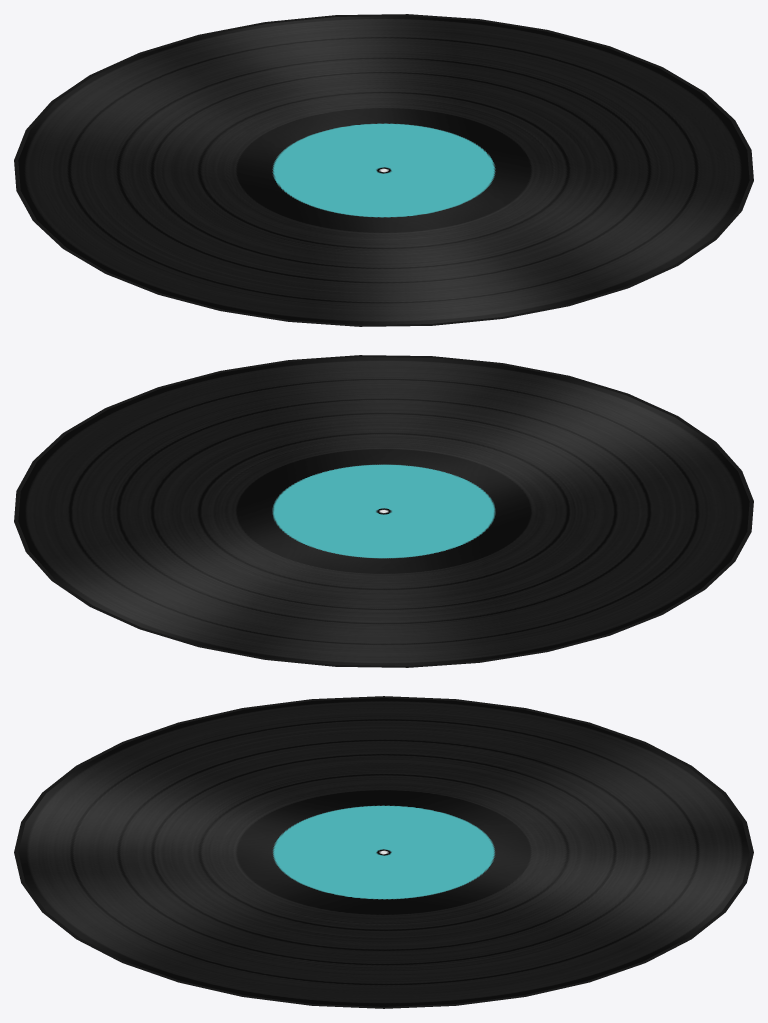
File: disk3.glb
The picture shows the model from 3 angles, top to bottom: view 1: azimuth 30°, elevation 25°; view 2: azimuth 150°, elevation 25°; view 3: azimuth 270°, elevation 25°; orthographic projection.
Parts seen in each view (by area): view 1: Cylinder.001; view 2: Cylinder.001; view 3: Cylinder.001.
Boxes of the visible parts, <box> form: Cylinder.001: <box>14,14,753,326</box>; Cylinder.001: <box>14,355,753,667</box>; Cylinder.001: <box>14,696,753,1008</box>.
Bounding box in the file's own units: 1.64 × 0 × 1.64.
Materials: 2 (1 with a texture image).
